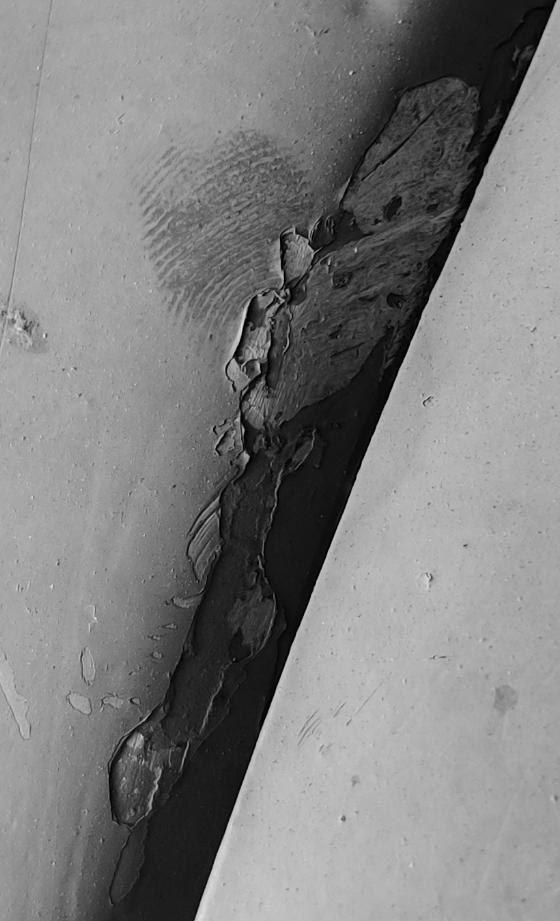paint-off: (1, 0, 560, 921)
